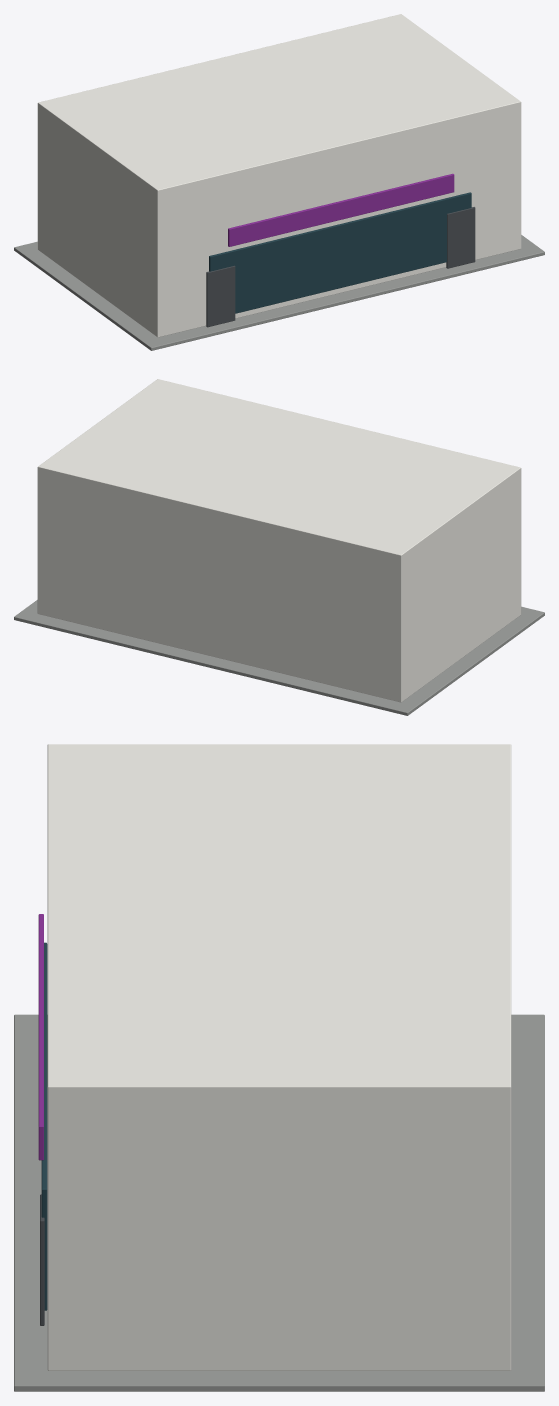
File: Building_Commercial_020.glb
3 views of the same model, one above another, from view 1: azimuth 30°, elevation 25°; view 2: azimuth 150°, elevation 25°; view 3: azimuth 270°, elevation 25° (orthographic). The views are drawn at different scales.
Visible parts, largest first — view 1: Building_Commercial_020; view 2: Building_Commercial_020; view 3: Building_Commercial_020.
Boxes of the visible parts, left/top/right/bottom form: Building_Commercial_020: left=14, top=14, right=544, bottom=350; Building_Commercial_020: left=14, top=379, right=544, bottom=715; Building_Commercial_020: left=14, top=744, right=544, bottom=1391.
Size of the model in its own units: 19.57 by 7.16 by 11.83.
